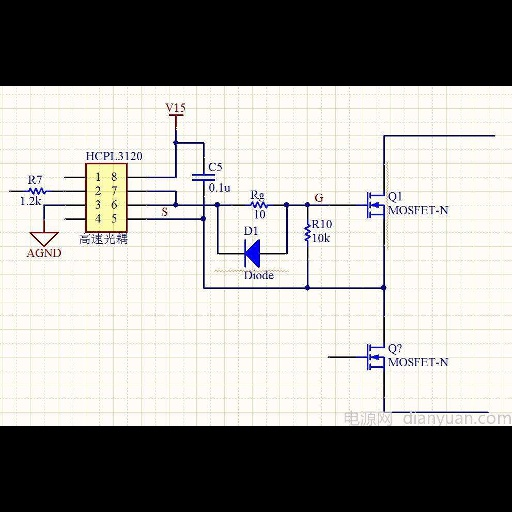capacitor: (187, 170, 220, 183)
firstdiode: (239, 237, 265, 270)
mos: (366, 339, 386, 376), (366, 187, 385, 220)
secondresistance: (301, 220, 312, 248), (246, 199, 274, 209), (24, 186, 49, 196)
